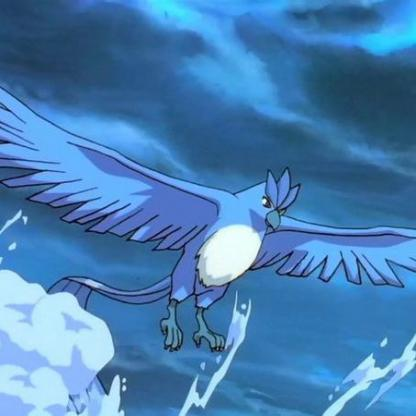Articuno: (2, 78, 416, 350)
